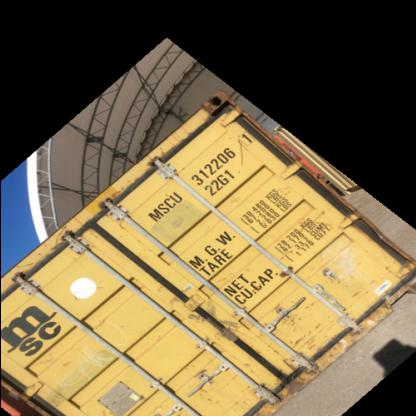Damage: (283, 315, 341, 358), (343, 256, 399, 300), (273, 366, 313, 398), (137, 142, 171, 172), (61, 281, 107, 301), (100, 176, 134, 203), (42, 225, 74, 253), (226, 135, 250, 171), (301, 204, 330, 232), (32, 354, 68, 376), (192, 384, 223, 405), (85, 315, 109, 333), (14, 258, 40, 274), (204, 274, 232, 286), (230, 396, 250, 412), (234, 362, 254, 378), (298, 298, 313, 310)
